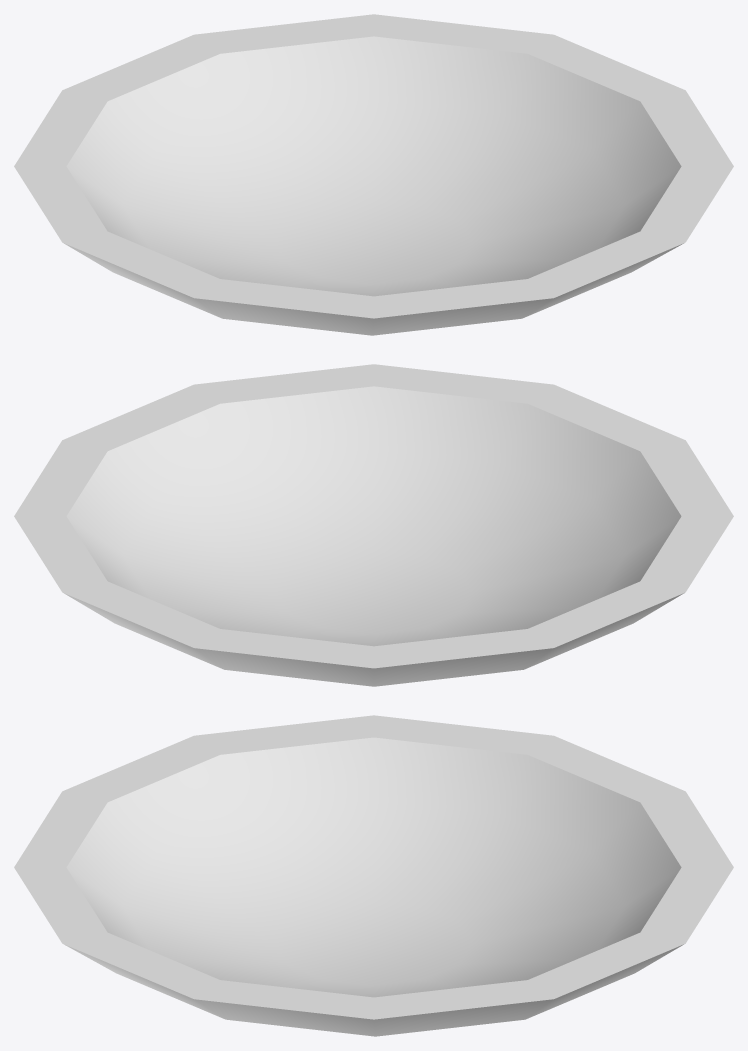
File: Fruit_Plate2.fbx
The picture shows the model from 3 angles, top to bottom: view 1: azimuth 30°, elevation 25°; view 2: azimuth 150°, elevation 25°; view 3: azimuth 270°, elevation 25°; orthographic projection.
Visible parts, largest first — view 1: Fruit_Plate2; view 2: Fruit_Plate2; view 3: Fruit_Plate2.
Part boxes in pixels (bbox=[...]): Fruit_Plate2: bbox=[14, 14, 733, 335]; Fruit_Plate2: bbox=[14, 364, 733, 686]; Fruit_Plate2: bbox=[14, 715, 733, 1036].
Bounding box in the file's own units: 37.45 × 4.77 × 37.45.
